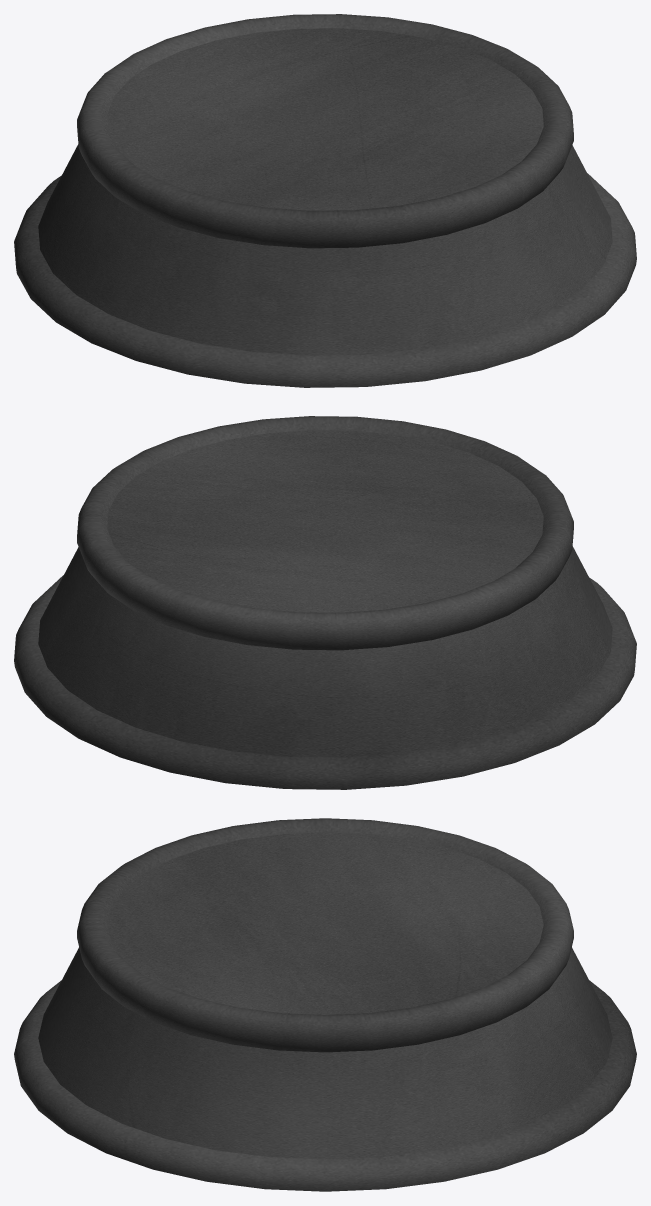
The model's file is platform.glb.
3 views of the same model, one above another, from view 1: azimuth 30°, elevation 25°; view 2: azimuth 150°, elevation 25°; view 3: azimuth 270°, elevation 25° (orthographic).
Visible parts, largest first — view 1: Circle; view 2: Circle; view 3: Circle.
Boxes of the visible parts, bbox=[...] form: Circle: bbox=[14, 14, 636, 387]; Circle: bbox=[14, 416, 636, 789]; Circle: bbox=[14, 818, 636, 1191].
Size of the model in its own units: 1.99 by 0.4991 by 1.99.
1 material, 1 textured.
